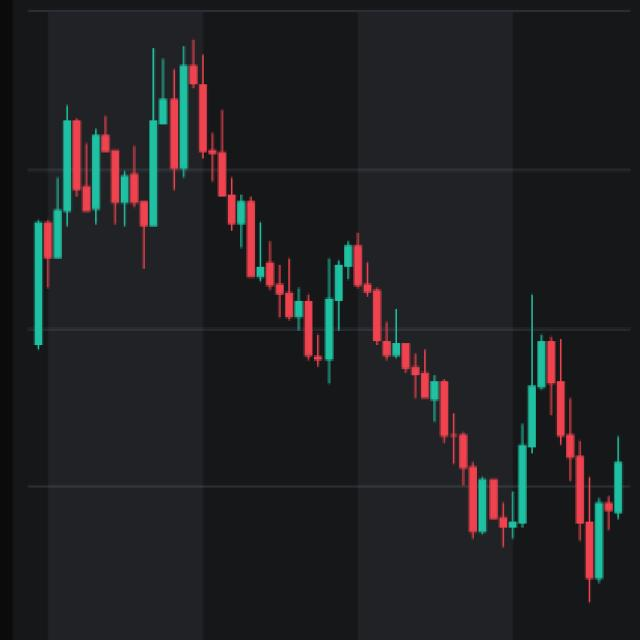Support-breakout: (324, 232, 479, 532)
